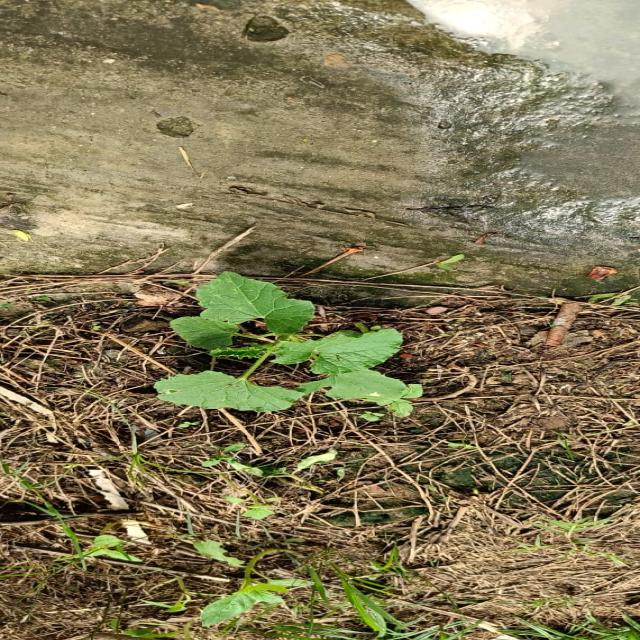plant: (153, 272, 421, 417)
